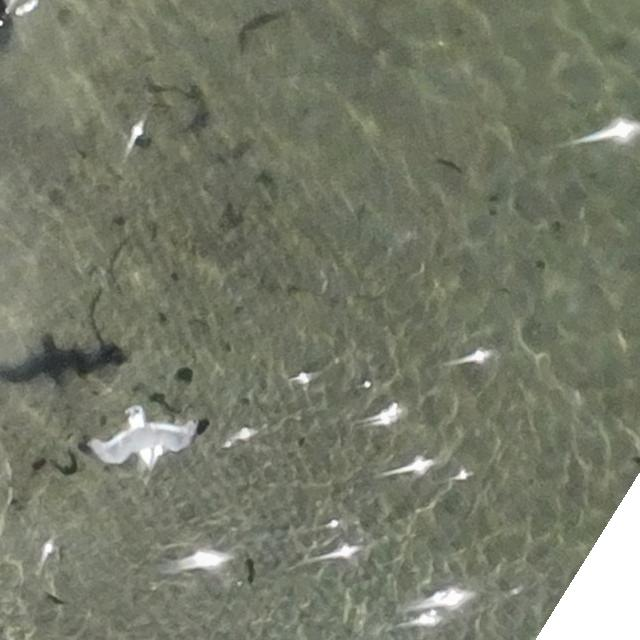F: (94, 404, 188, 466)
